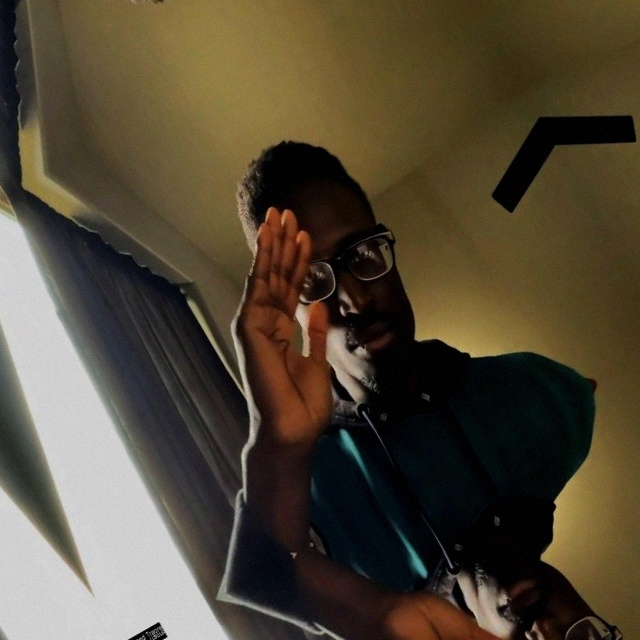Paper: (0, 0, 149, 25)
